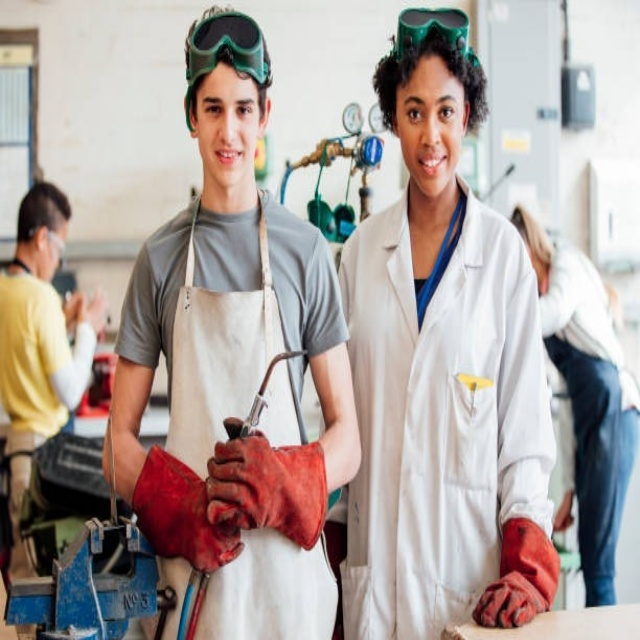Gafas: (42, 227, 66, 264)
Guantes: (127, 433, 246, 579), (207, 432, 327, 550), (471, 517, 560, 628)
Sin_gafas: (398, 86, 466, 125), (197, 91, 260, 125)
Sin_mascara: (412, 144, 452, 190), (209, 141, 250, 182)
